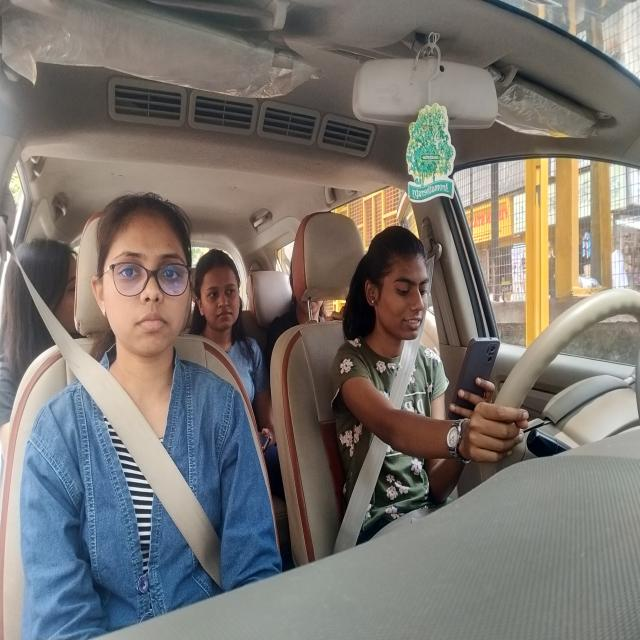mobile: (449, 336, 503, 421)
person: (94, 184, 193, 376), (361, 221, 433, 347), (8, 243, 82, 354), (196, 246, 247, 340)
